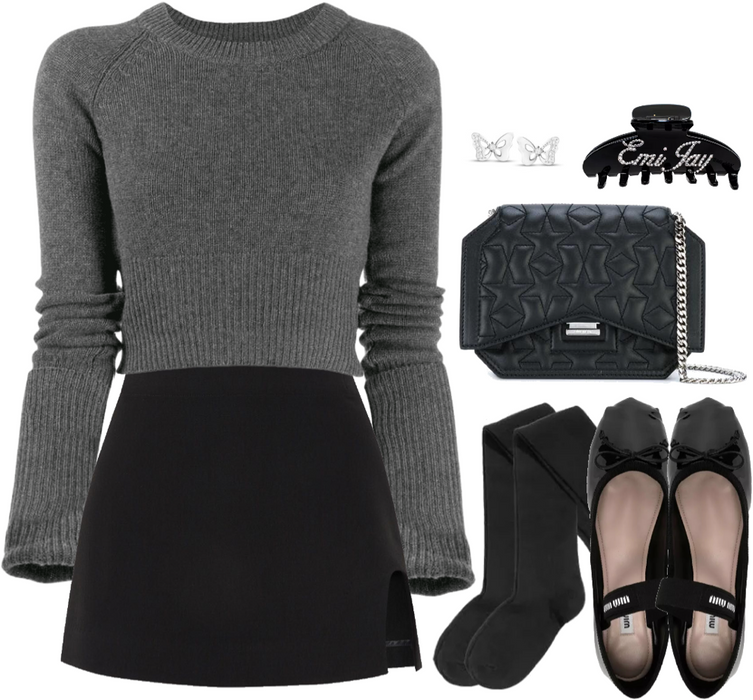аксесуары: (581, 100, 753, 196), (467, 119, 567, 177)
кофта: (24, 1, 451, 391)
сумка: (454, 194, 753, 389)
туфли: (581, 391, 753, 700)
юбка: (56, 367, 425, 684)
